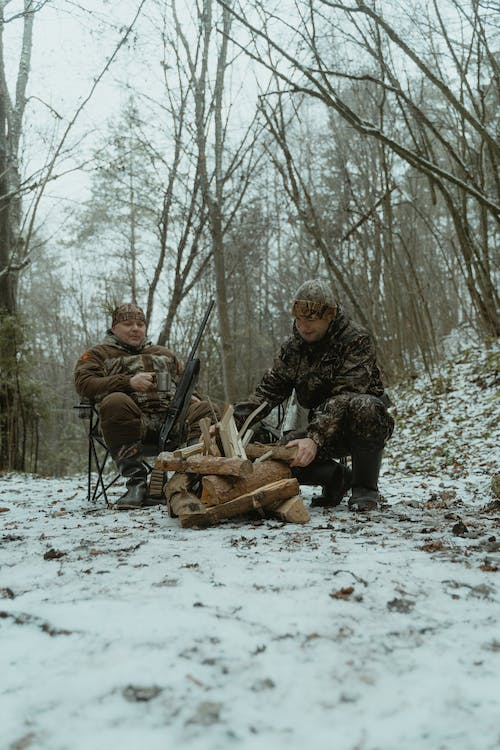gun: (144, 296, 217, 505)
